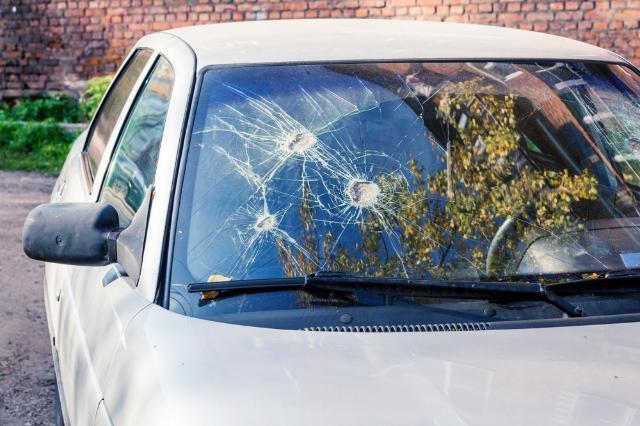glass shatter: (168, 62, 640, 329)
